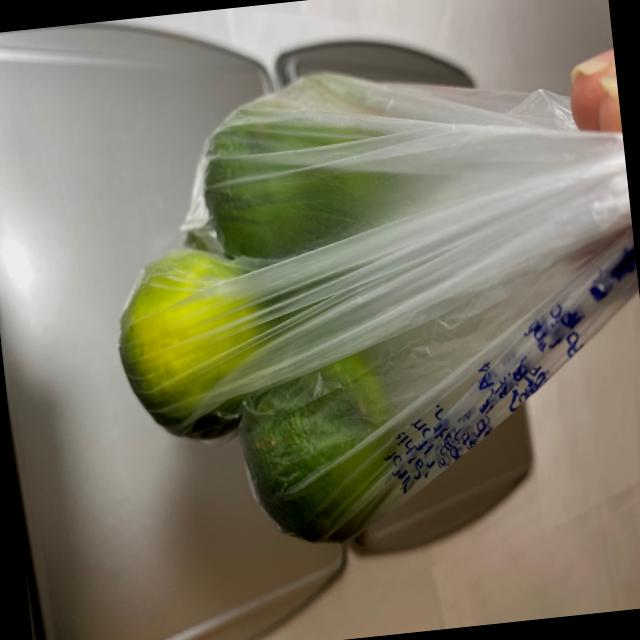lemon: (86, 65, 454, 565)
